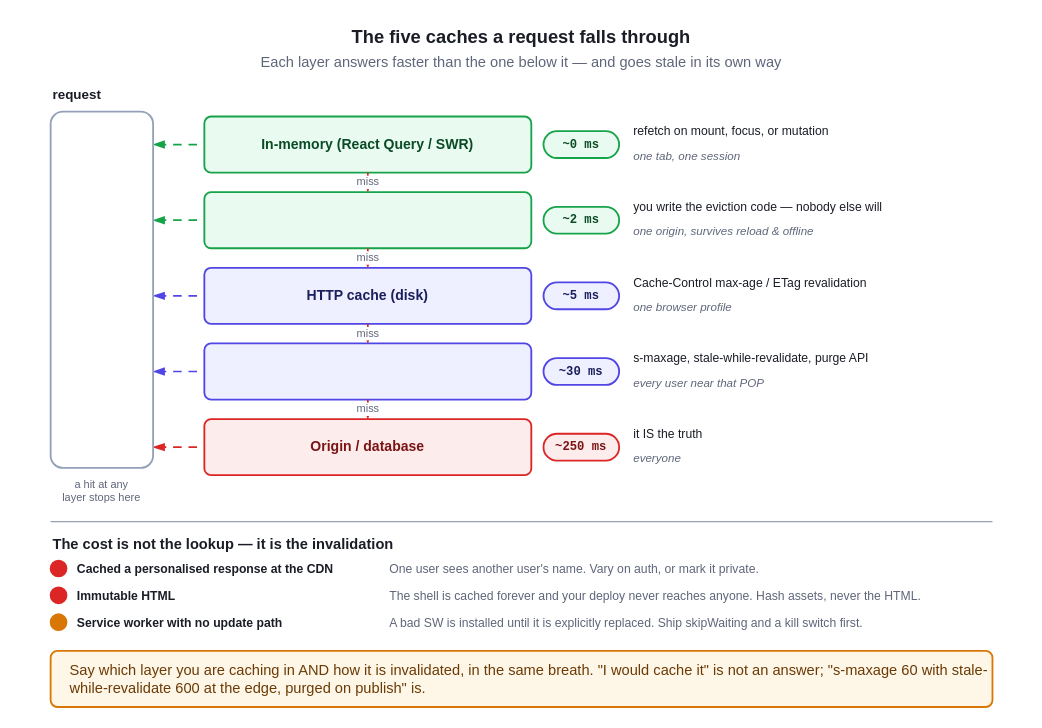
Image size: 1042x728. Some labels were removed from this diagram. The box of each missing label's shape, as (x1, y1, x2, y2) in pixels:
CDN edge: (203, 342, 532, 400)
client: (49, 110, 153, 468)
Service worker (Cache Storage): (203, 191, 532, 249)
